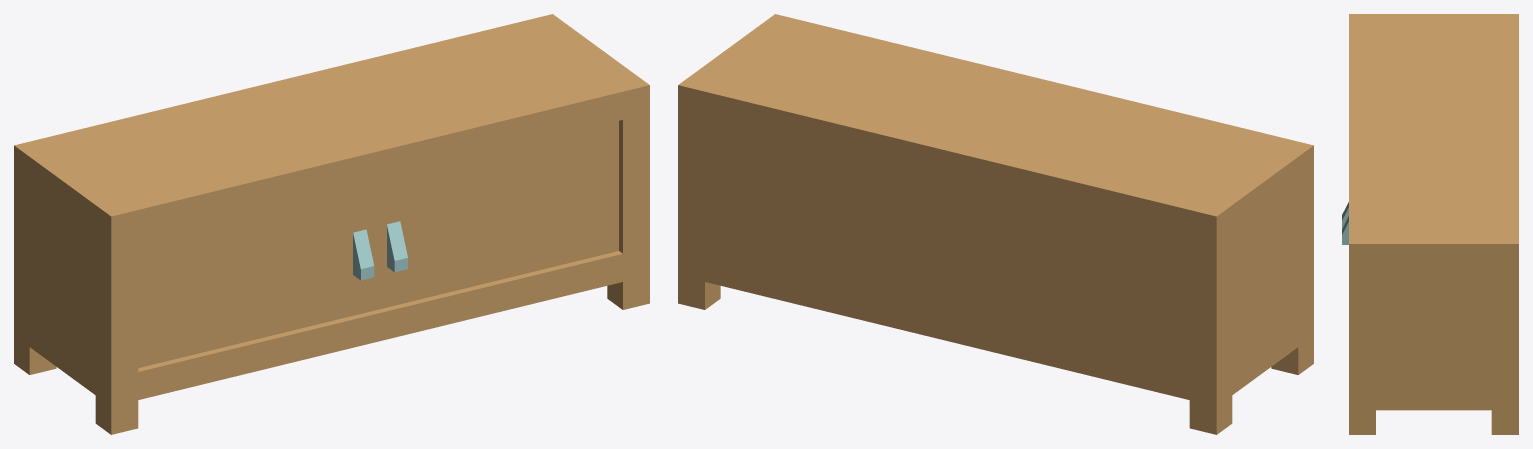
Rendered from cabinetTelevisionDoors.glb.
3 renders of one model, left to right at view 1: azimuth 30°, elevation 25°; view 2: azimuth 150°, elevation 25°; view 3: azimuth 270°, elevation 25°, orthographic. The views are drawn at different scales.
Visible parts, largest first — view 1: cabinetTelevisionDoors, doorRight 1, doorLeft 1; view 2: cabinetTelevisionDoors; view 3: cabinetTelevisionDoors.
Boxes of the visible parts, bbox=[...] form: cabinetTelevisionDoors: bbox=[14, 14, 649, 434]; doorRight 1: bbox=[376, 121, 618, 309]; doorLeft 1: bbox=[138, 180, 376, 367]; cabinetTelevisionDoors: bbox=[678, 14, 1313, 434]; cabinetTelevisionDoors: bbox=[1349, 14, 1518, 434].
Bounding box in the file's own units: 1.44 × 0.558 × 0.468.
